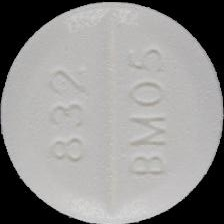53808-0826: (0, 0, 224, 224)
